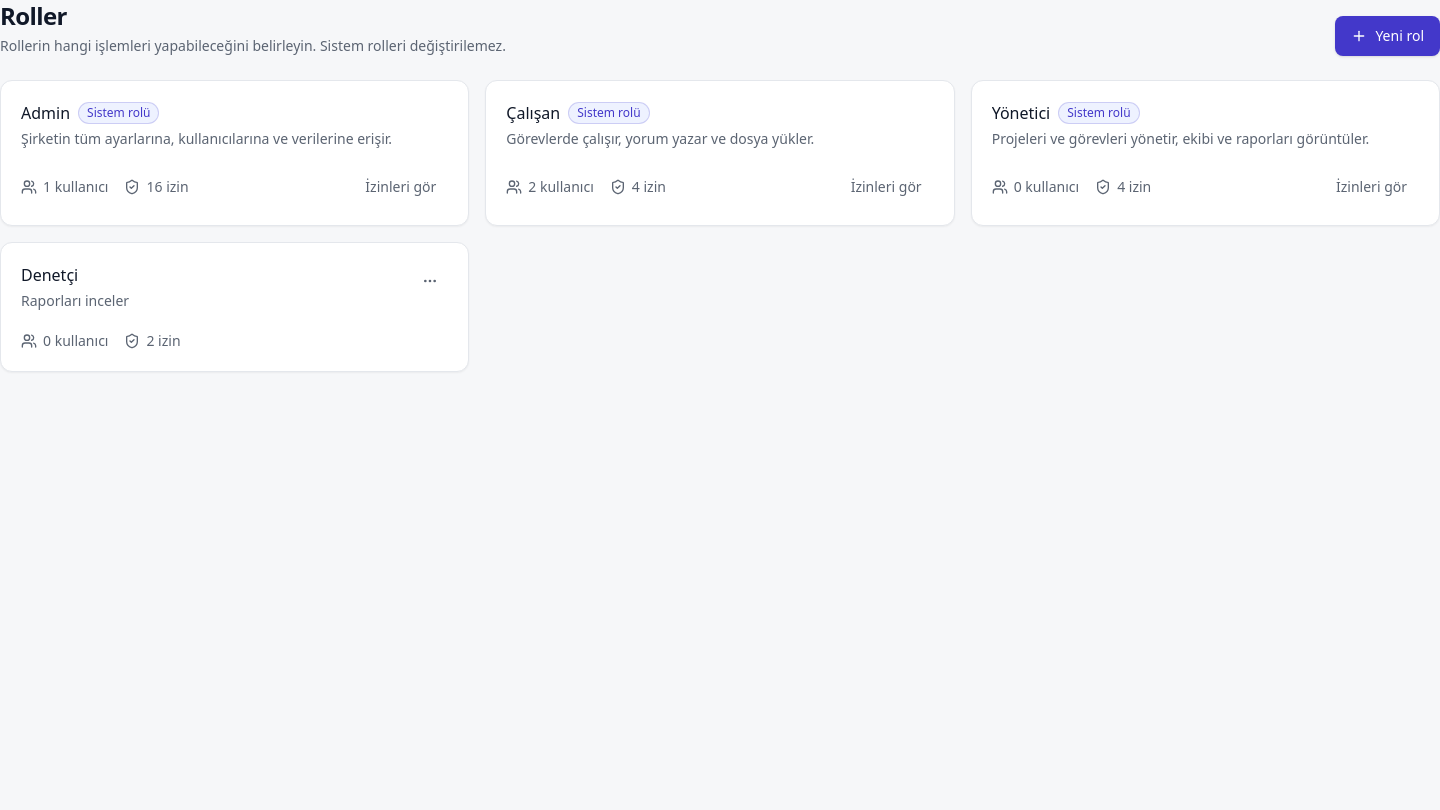
Test: RolesPage › explains why a role in use cannot be deleted
Expected: the text "Denetçi" is shown, left=21, top=263, right=78, bottom=287
Click the button named "Denetçi rolü için işlemler".
click(430, 281)  # box left=412, top=263, right=448, bottom=299
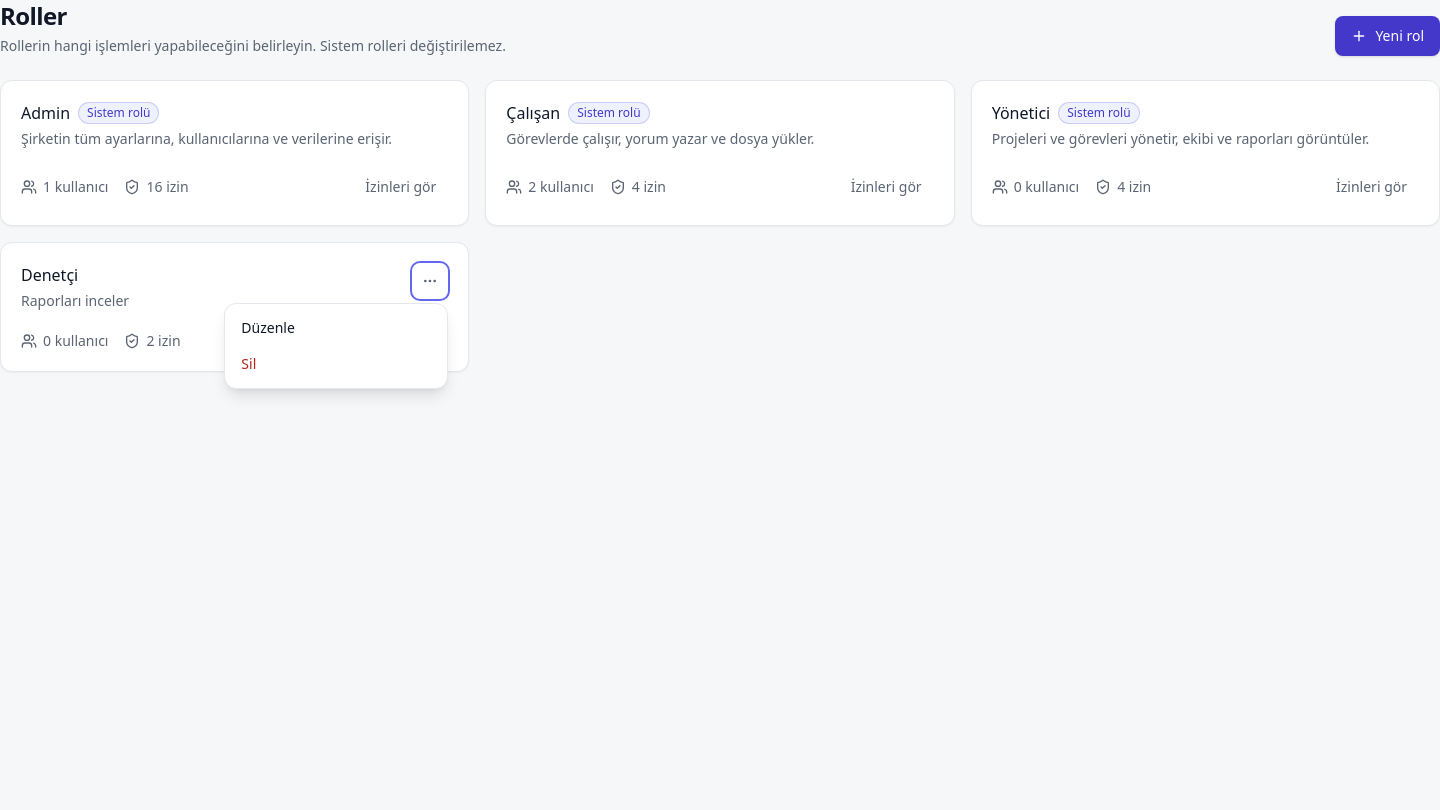
Click the menu item "Sil".
click(336, 364)  # box left=231, top=346, right=441, bottom=382
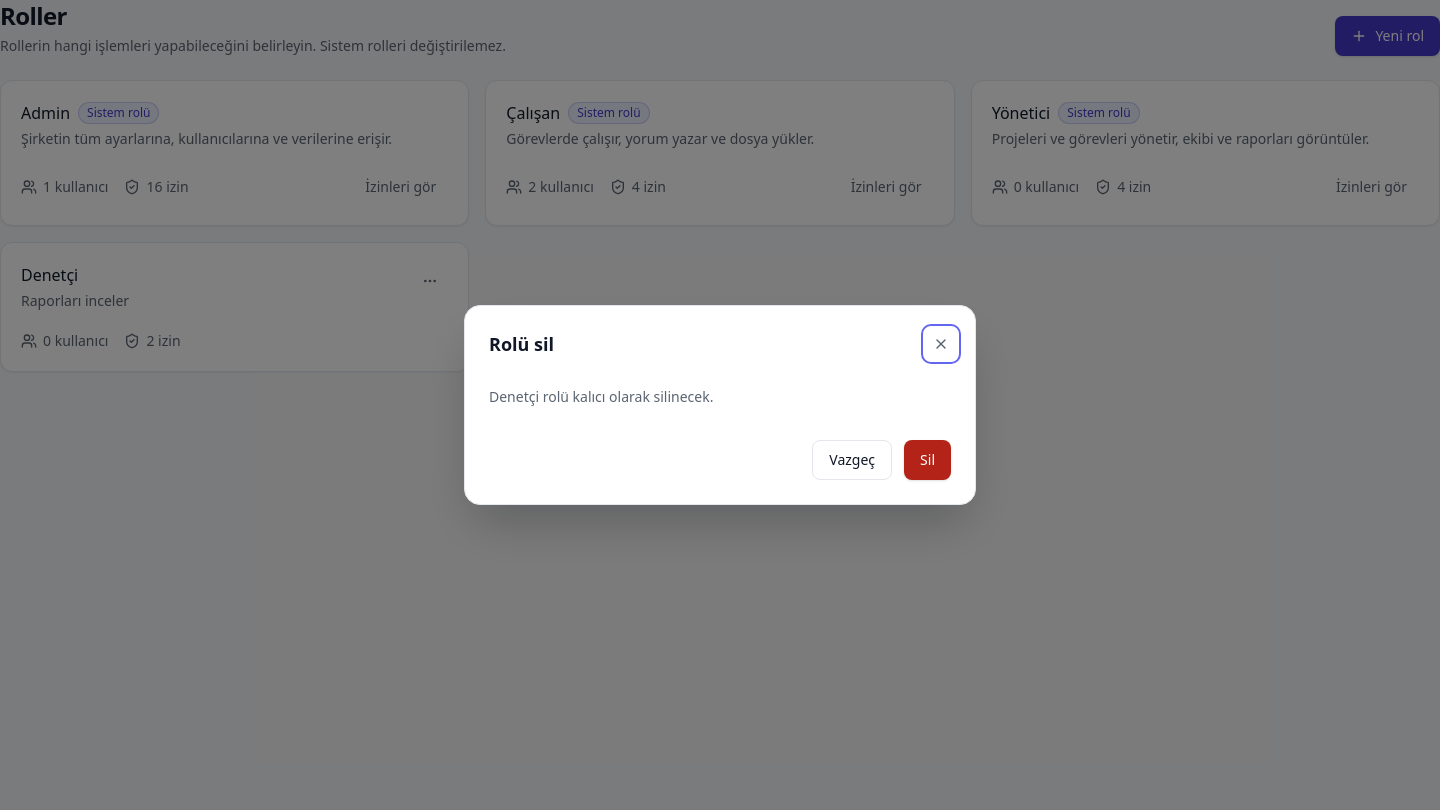
Click the button "Sil".
click(928, 460)  # box left=904, top=440, right=951, bottom=480
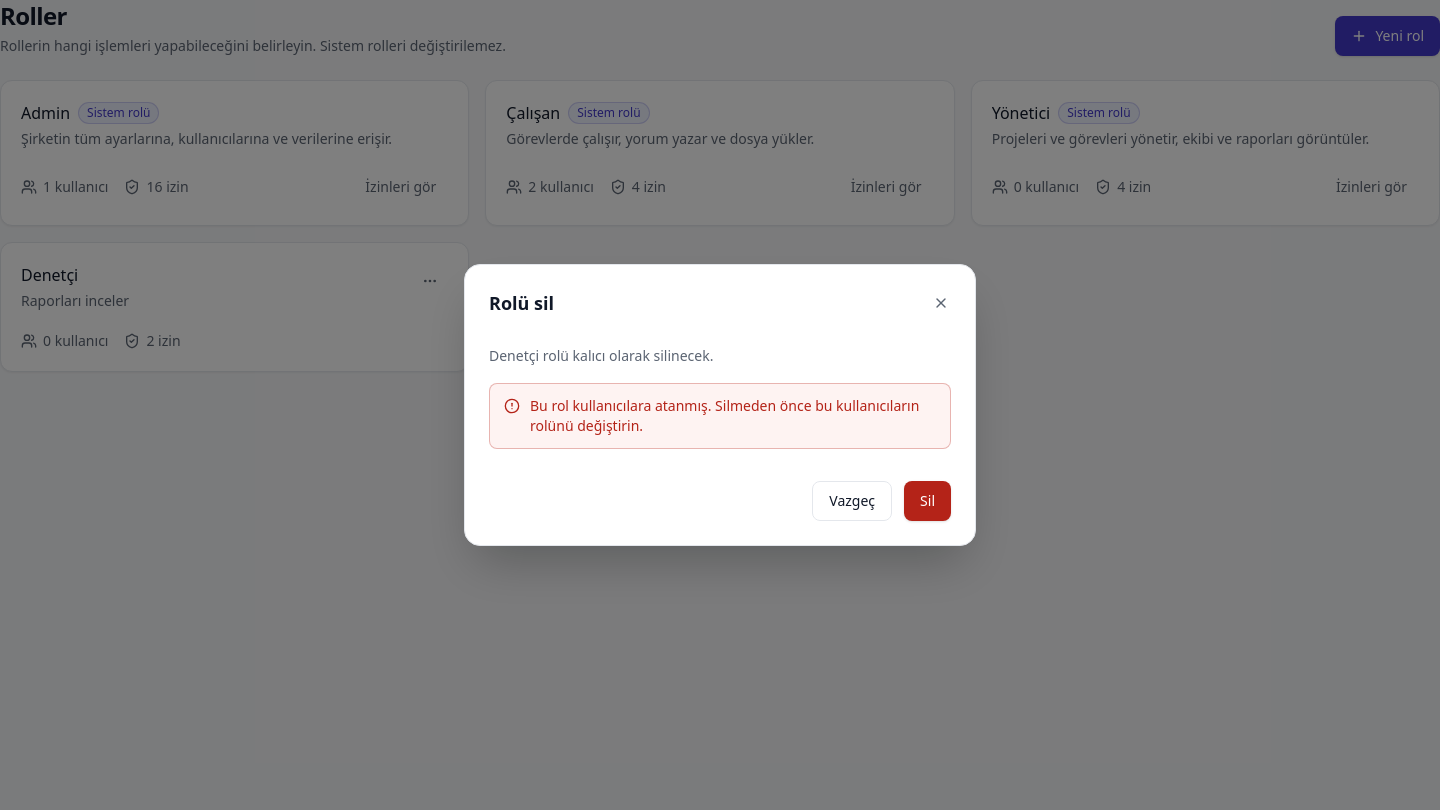
Now the text "Bu rol kullanıcılara atanmış" is shown, box left=530, top=396, right=919, bottom=435
